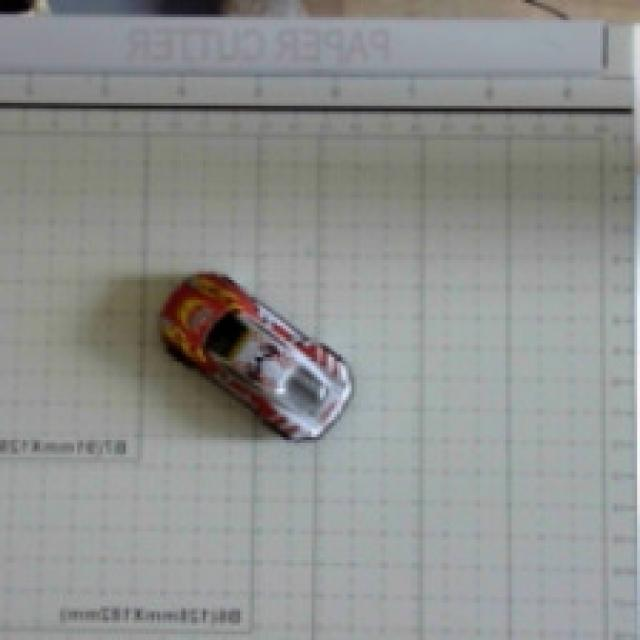Red Car: (133, 232, 392, 479)
